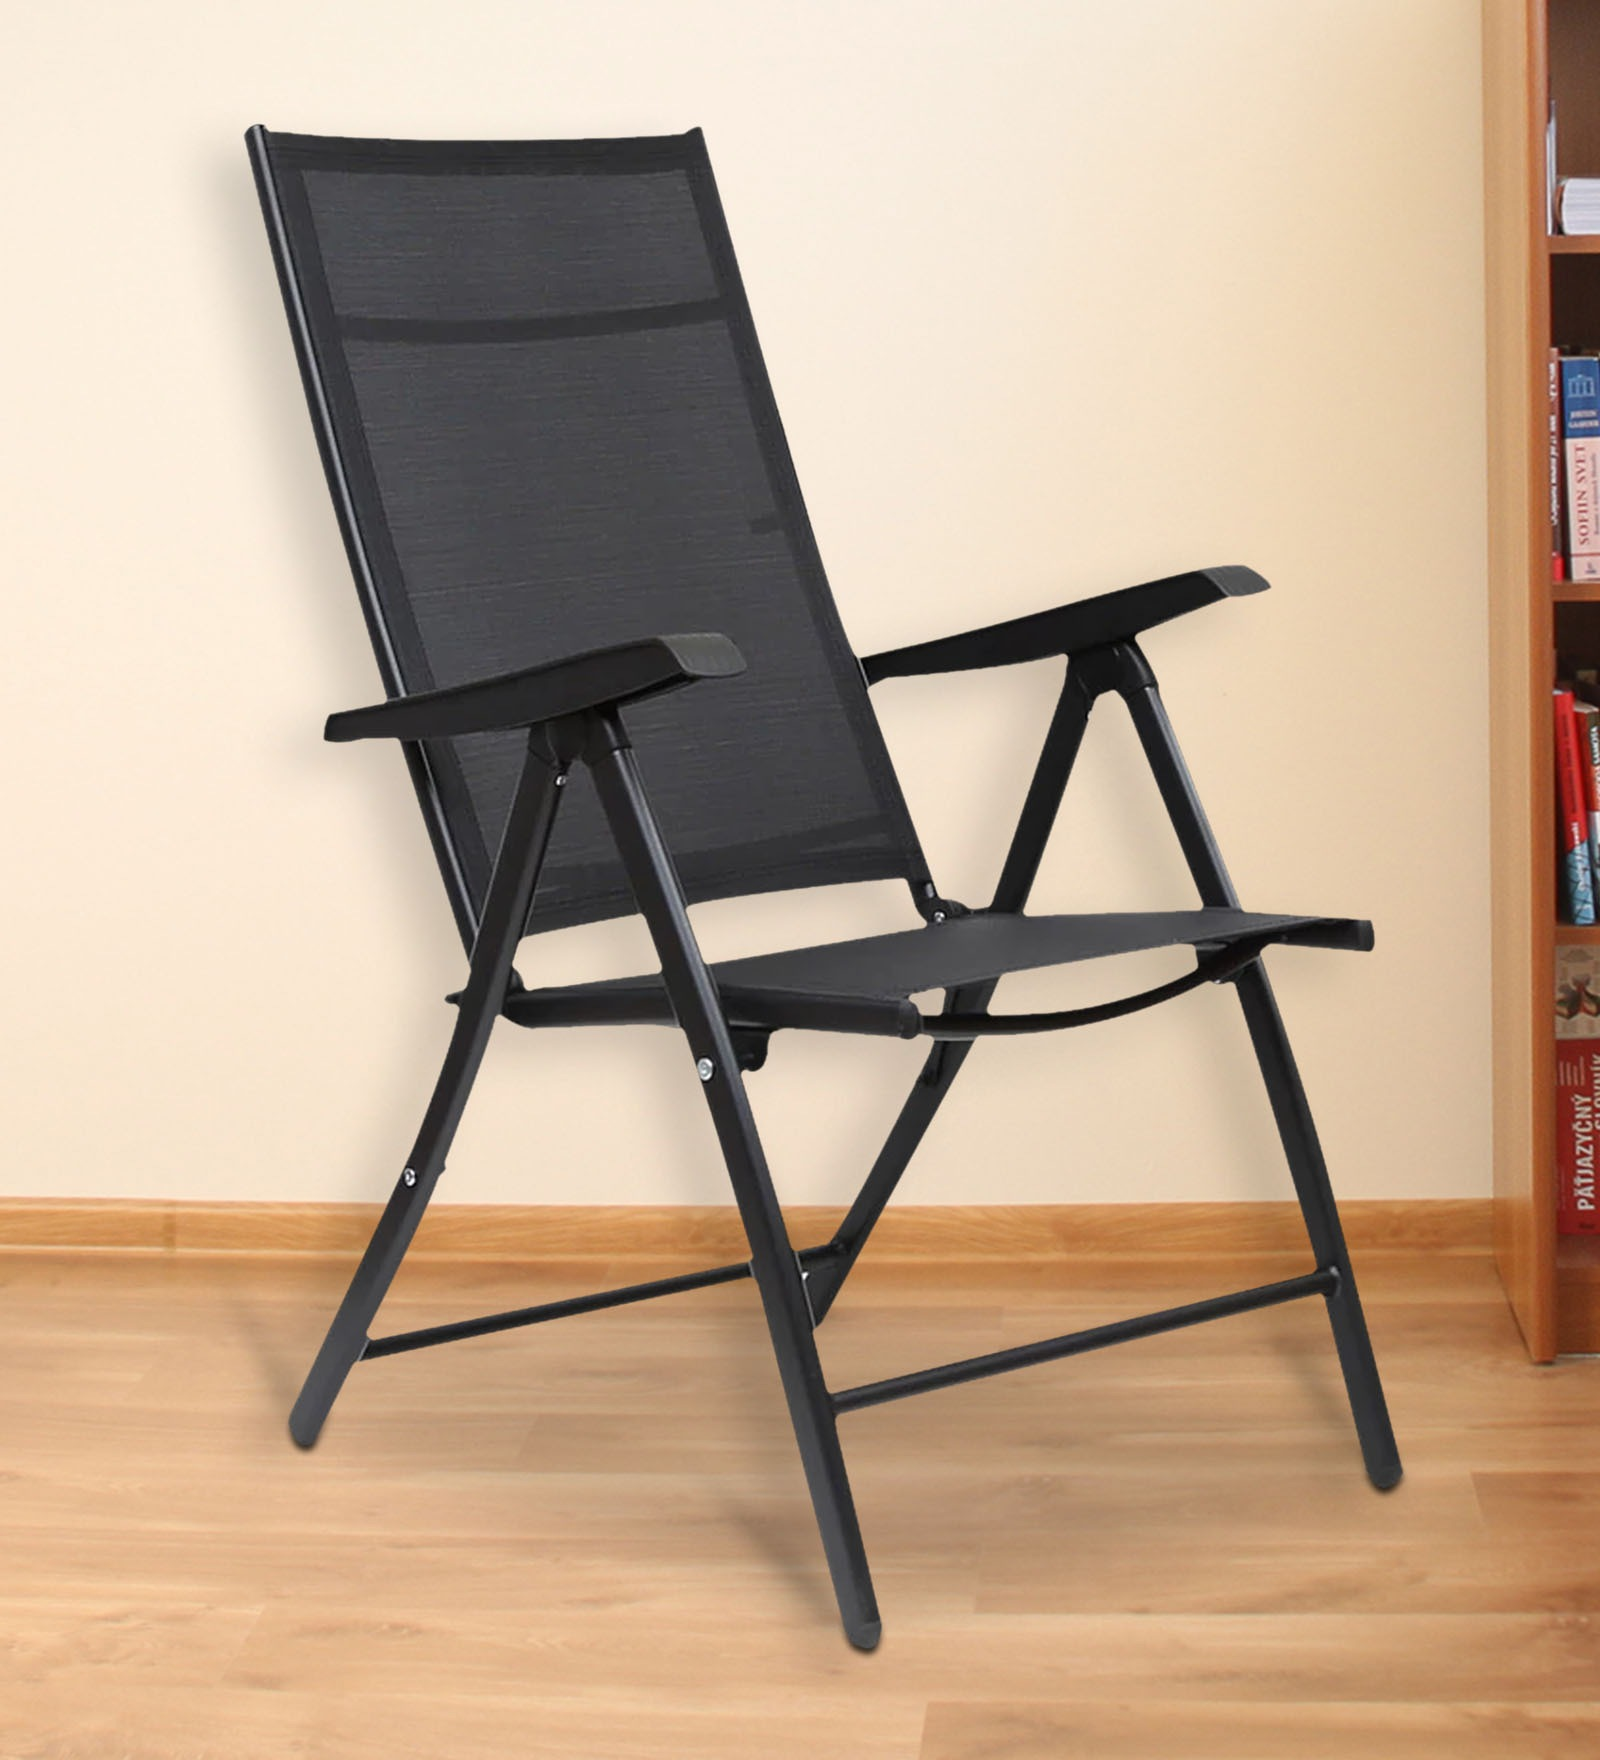Jet Folding Chair in Black Colour by HomeTown: (196, 100, 1485, 1666)
